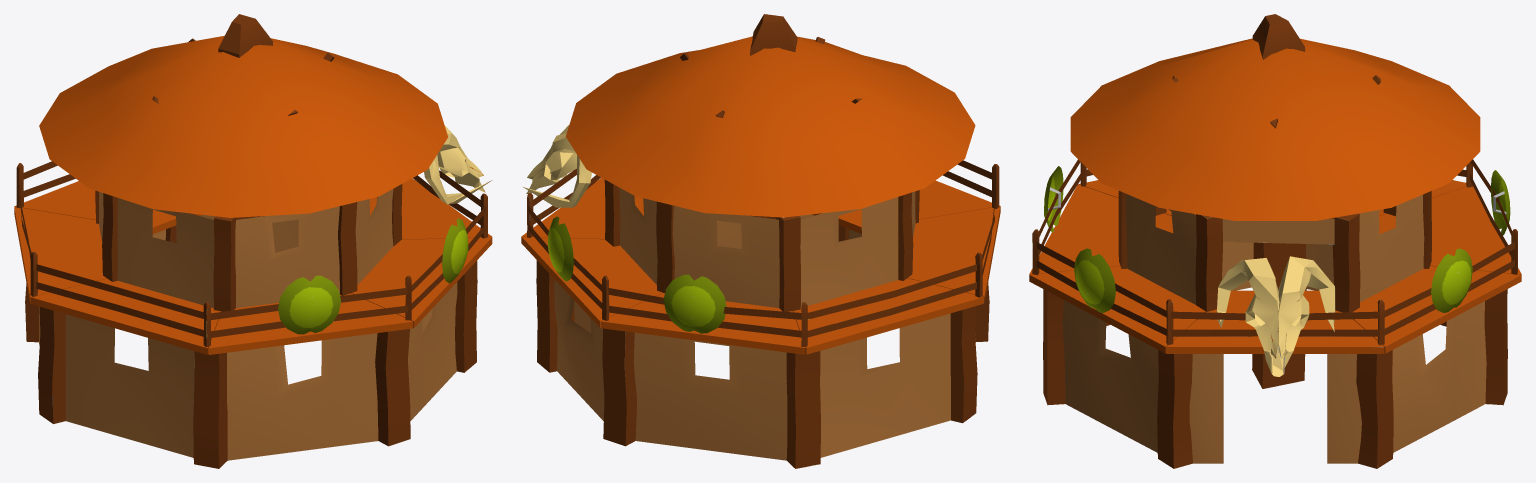
Rendered from Barrack Age 2.fbx.
3 views of the same model, side by side, from view 1: azimuth 30°, elevation 25°; view 2: azimuth 150°, elevation 25°; view 3: azimuth 270°, elevation 25° (orthographic).
Visible parts, largest first — view 1: Barrack_Age_2; view 2: Barrack_Age_2; view 3: Barrack_Age_2.
Boxes of the visible parts, <box> form: Barrack_Age_2: <box>14,14,492,468</box>; Barrack_Age_2: <box>521,14,1000,468</box>; Barrack_Age_2: <box>1029,14,1521,468</box>.
Size of the model in its own units: 627 by 462 by 577.
Materials: 1 (1 with a texture image).
